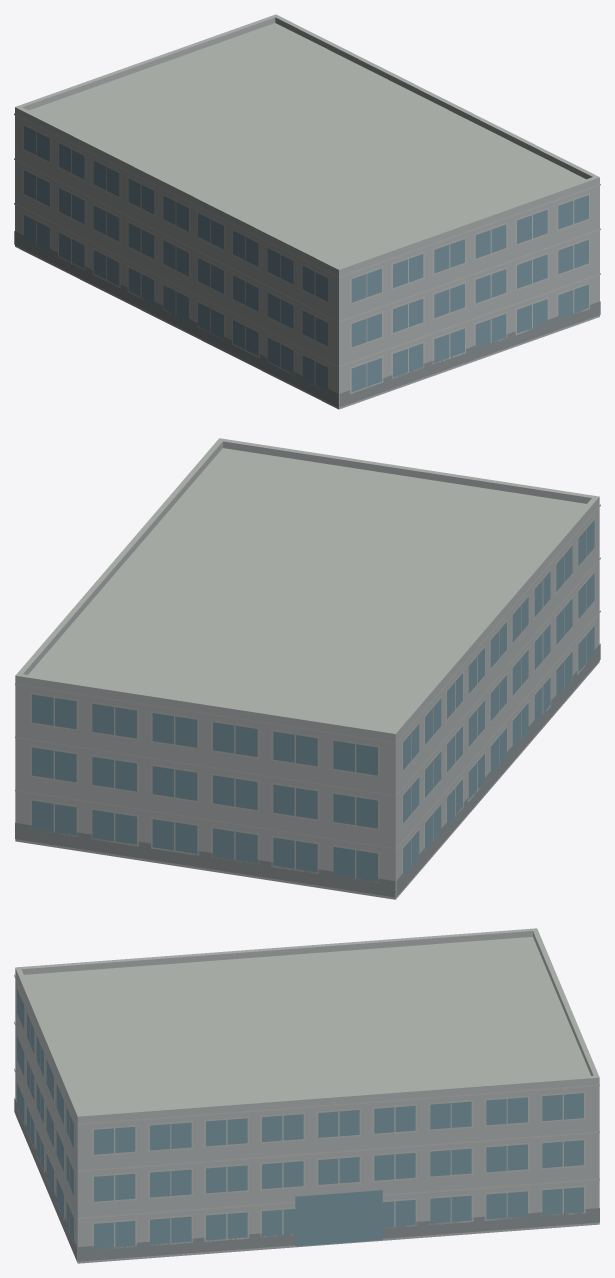
The model's file is public-aaf8c5c9-9ec9-45a2-81bf-2c7d959f4200.glb.
3 views of the same model, one above another, from view 1: azimuth 30°, elevation 25°; view 2: azimuth 150°, elevation 25°; view 3: azimuth 270°, elevation 25° (orthographic). The views are drawn at different scales.
Parts seen in each view (by area): view 1: public-aaf8c5c9-9ec9-45a2-81bf-2c7d959f4200; view 2: public-aaf8c5c9-9ec9-45a2-81bf-2c7d959f4200; view 3: public-aaf8c5c9-9ec9-45a2-81bf-2c7d959f4200.
Part boxes in pixels (box(x1,y1,x2,y2)): public-aaf8c5c9-9ec9-45a2-81bf-2c7d959f4200: box(14, 14, 600, 409); public-aaf8c5c9-9ec9-45a2-81bf-2c7d959f4200: box(15, 438, 600, 899); public-aaf8c5c9-9ec9-45a2-81bf-2c7d959f4200: box(14, 928, 599, 1263).
Bounding box in the file's own units: 25.3 × 9.15 × 33.12.
